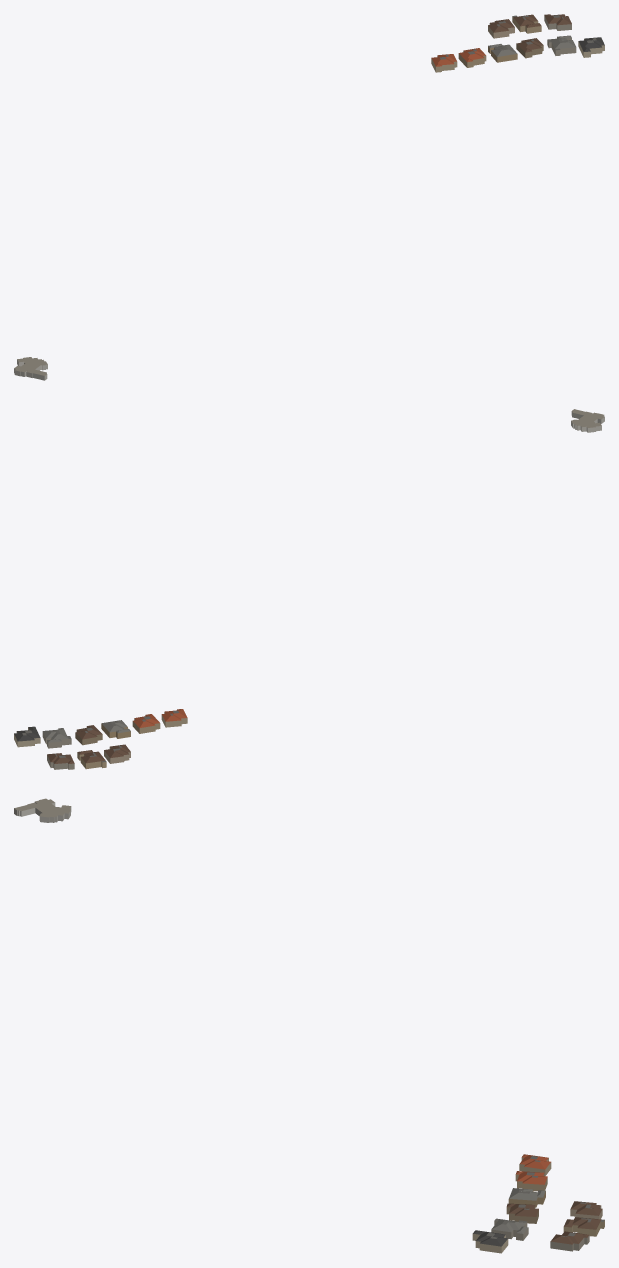
3 renders of one model, top to bottom at view 1: azimuth 30°, elevation 25°; view 2: azimuth 210°, elevation 25°; view 3: azimuth 270°, elevation 25°, orthographic. The views are drawn at different scales.
Visible parts, largest first — view 1: buildings_r5_c1_lod1; view 2: buildings_r5_c1_lod1; view 3: buildings_r5_c1_lod1.
Part boxes in pixels (x1,y1,x2,y2): buildings_r5_c1_lod1: (14,14,604,380); buildings_r5_c1_lod1: (14,409,604,769); buildings_r5_c1_lod1: (14,798,604,1253).
Bounding box in the file's own units: 928 × 13.76 × 513.
